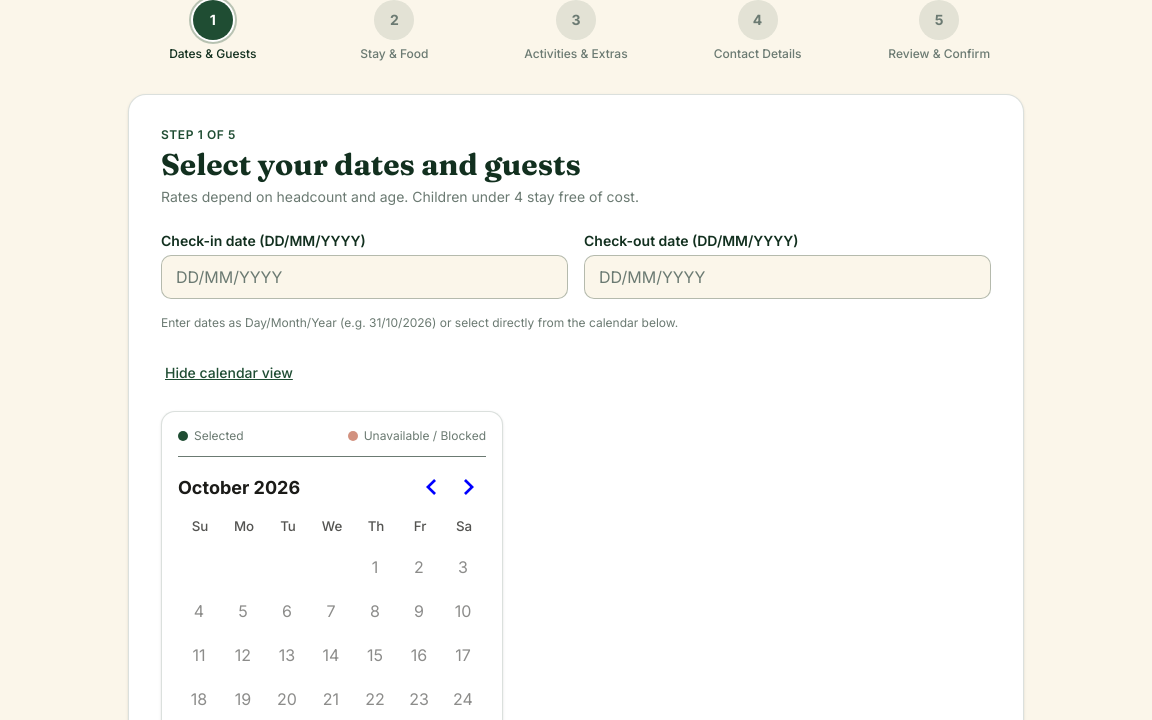
BookingFlow accessible stepper & jest-axe › Step 2 (Stay type and food) passes axe accessibility checks
Enter valid dates on step 1
Type "20/11/2026" into the field labelled "Check-in date (DD/MM/YYYY)" at (364, 277), box [161,255,568,299]
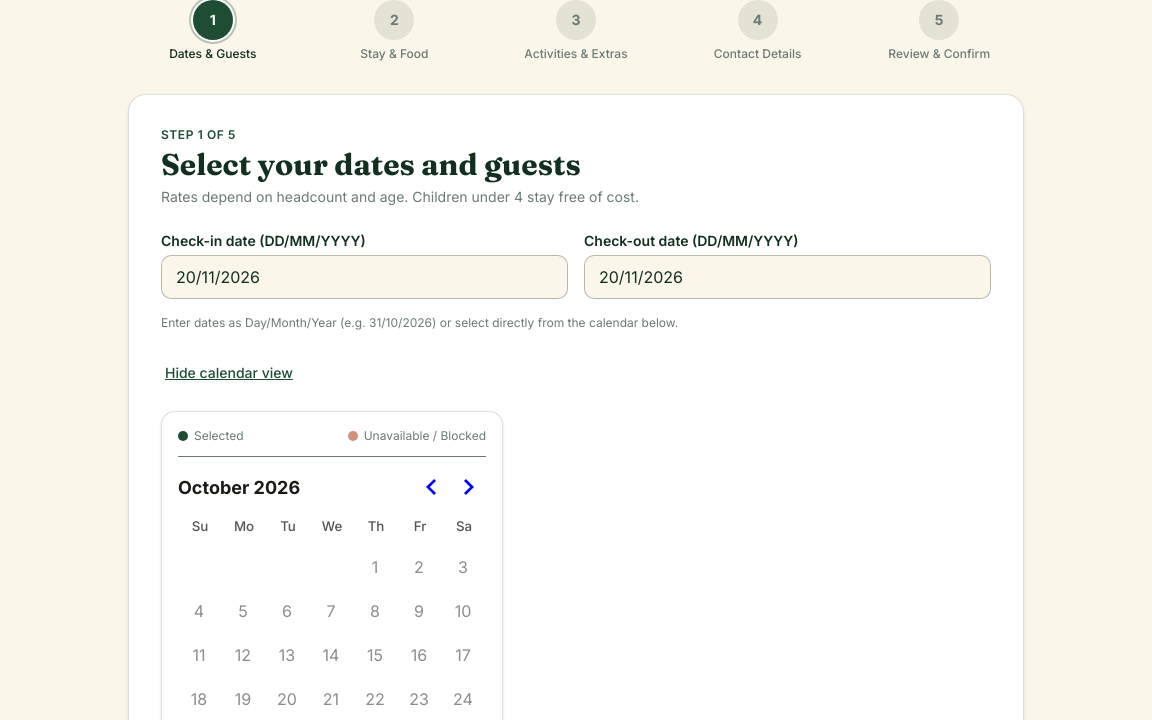
Replace the text in the field labelled "Check-out date (DD/MM/YYYY)" with "21/11/2026" at (788, 277), box [584,255,991,299]
(page scrolled)
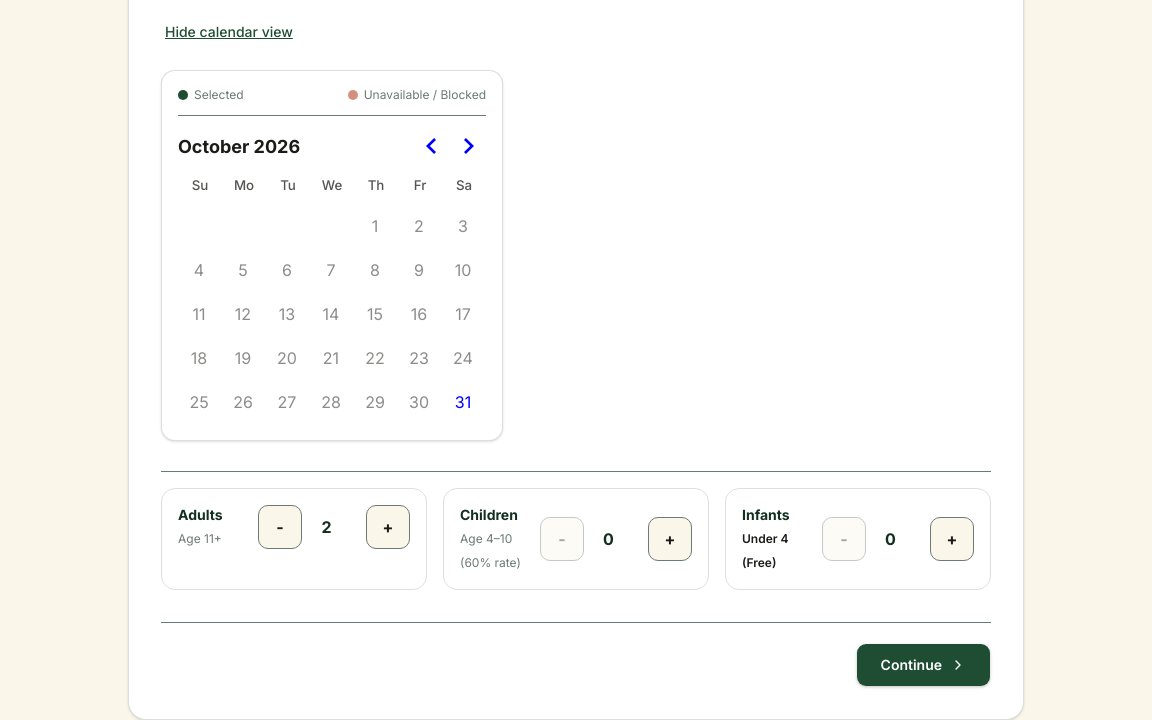
Click Continue
Click the button "Continue" at (923, 665), box [856,643,991,687]
(page scrolled)
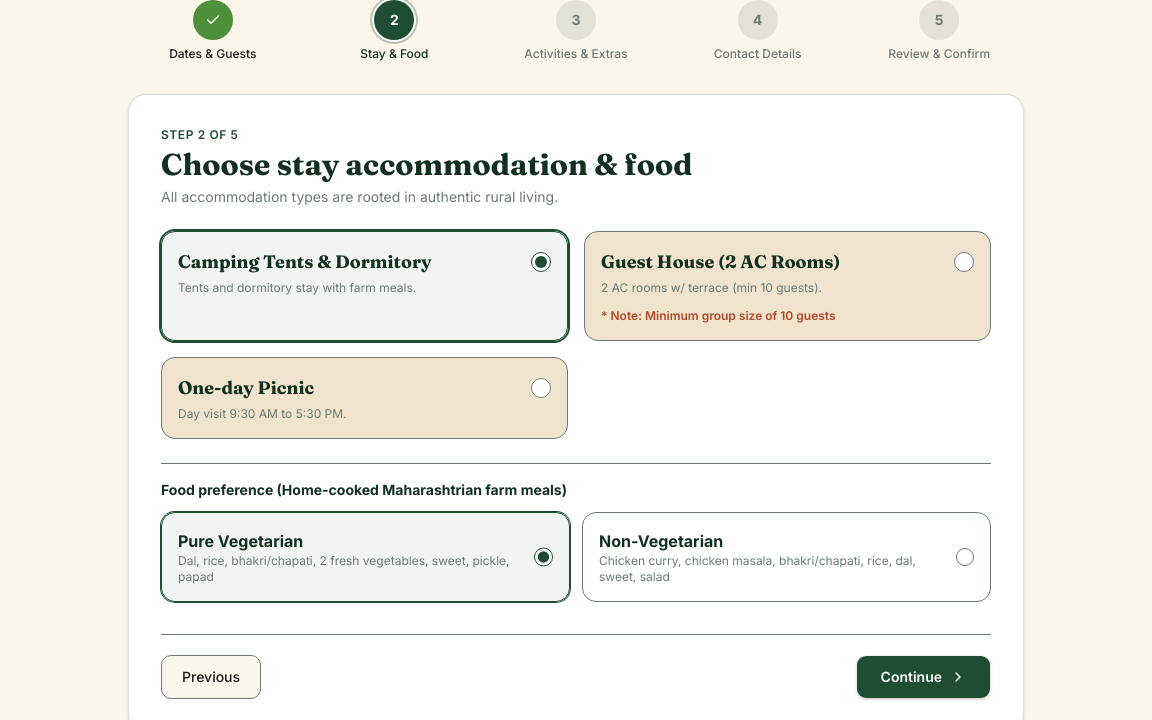
expect the list item "2 Stay & Food" is shown: met, box [360,0,428,61]
expect the heading "Choose stay accommodation & food" is shown: met, box [161,146,692,183]
